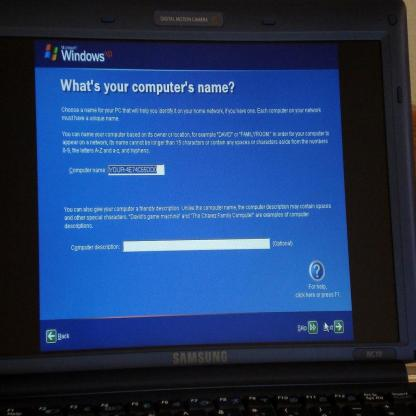board: (0, 1, 416, 416)
